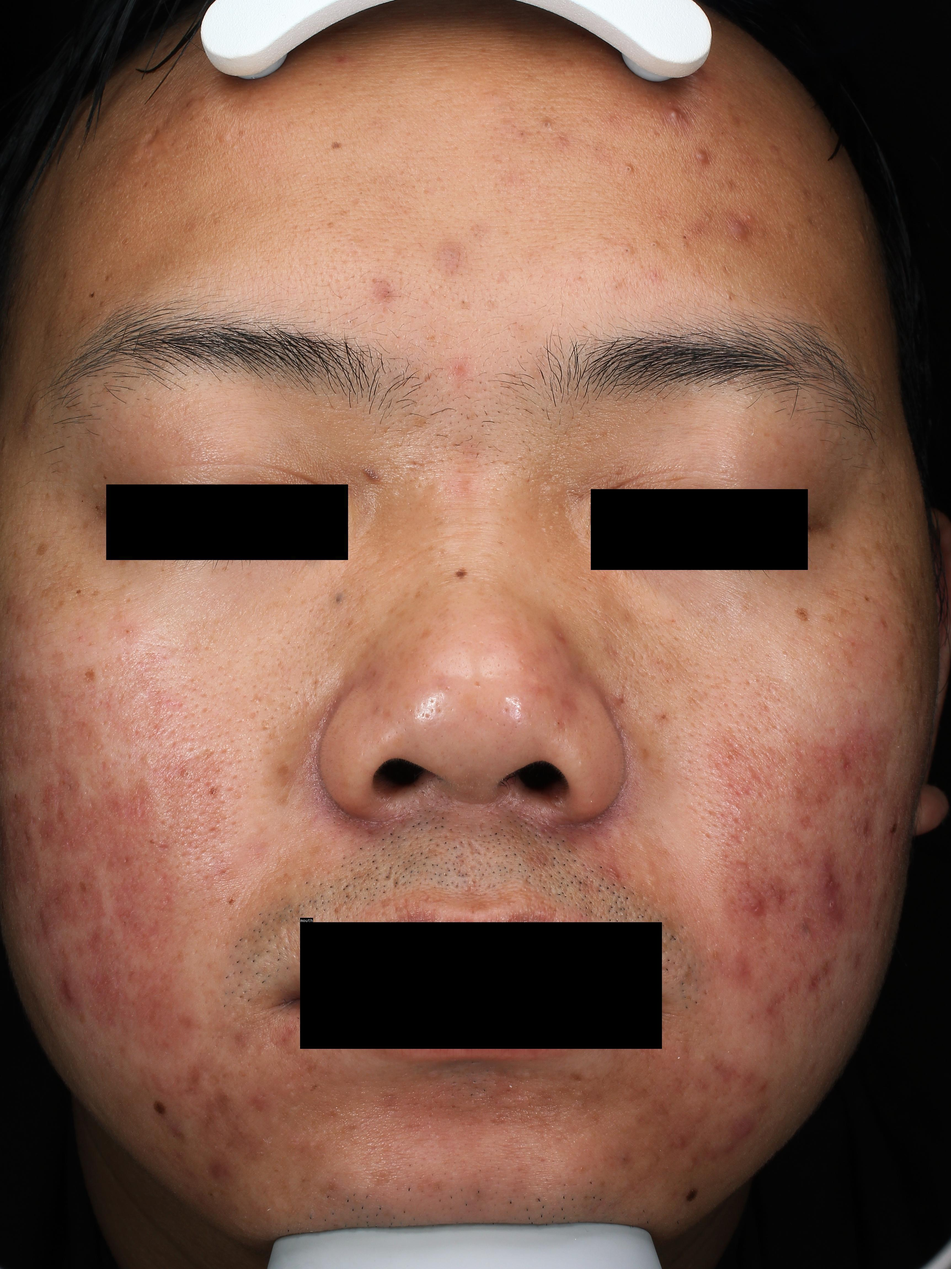atrophic_scar: (49, 759, 78, 825), (729, 817, 750, 847), (140, 127, 164, 150), (622, 1088, 653, 1103), (465, 834, 483, 857), (82, 764, 96, 792), (798, 814, 816, 832), (146, 919, 162, 938), (490, 1112, 508, 1127), (424, 847, 447, 858), (766, 682, 781, 697), (162, 726, 175, 743), (455, 868, 474, 879), (384, 862, 394, 882), (206, 1074, 220, 1088), (496, 269, 508, 285), (569, 1072, 584, 1083), (393, 872, 402, 890), (250, 692, 263, 704), (380, 896, 391, 910), (157, 843, 173, 852), (333, 902, 344, 915), (311, 676, 319, 693), (701, 831, 714, 841), (469, 865, 480, 875), (827, 726, 838, 736), (349, 197, 360, 207), (260, 719, 268, 731), (842, 761, 852, 770), (100, 759, 106, 774), (325, 221, 335, 229), (832, 630, 842, 638), (423, 374, 432, 382), (249, 711, 256, 720), (473, 681, 482, 687), (857, 709, 862, 714)
closed_comedo: (218, 133, 231, 144), (139, 753, 151, 764), (782, 226, 792, 238), (92, 482, 100, 493), (545, 485, 554, 494), (700, 1054, 709, 1063), (746, 212, 753, 221), (254, 699, 260, 705), (231, 143, 237, 149), (119, 656, 124, 662)
hypertrophic_scar: (498, 1095, 518, 1109), (513, 1069, 531, 1078), (426, 1069, 440, 1079)
melasma: (39, 563, 88, 614), (870, 538, 904, 593), (100, 580, 133, 601), (860, 545, 876, 572), (83, 667, 98, 686), (117, 552, 133, 569), (824, 588, 840, 603), (818, 612, 837, 624), (36, 542, 49, 556), (840, 606, 853, 618), (81, 519, 92, 530), (827, 540, 836, 552), (92, 589, 101, 596), (124, 597, 133, 604), (310, 1084, 319, 1091), (864, 595, 870, 601), (547, 557, 551, 562)
nevus: (152, 1100, 169, 1116), (793, 606, 810, 622), (686, 1187, 699, 1202), (454, 566, 467, 579), (888, 822, 899, 835), (329, 141, 344, 150), (88, 290, 96, 299), (75, 589, 81, 594), (103, 474, 107, 480)
nodule: (709, 1114, 749, 1156)
open_comedo: (623, 164, 633, 176), (542, 119, 552, 130), (622, 246, 634, 255), (459, 297, 468, 306), (726, 292, 734, 302), (649, 241, 658, 249), (613, 284, 619, 290), (358, 190, 364, 196), (556, 721, 561, 727), (578, 276, 583, 281), (683, 234, 688, 239), (350, 241, 355, 246), (478, 380, 483, 385), (294, 690, 298, 695), (332, 643, 335, 647)
other: (358, 466, 379, 484), (335, 593, 344, 605)
papule: (740, 889, 769, 919), (768, 880, 789, 902), (729, 220, 746, 242), (820, 897, 838, 915), (62, 980, 76, 1003), (25, 823, 39, 845), (667, 110, 683, 125), (821, 875, 833, 890), (735, 863, 749, 875), (695, 152, 710, 163), (613, 689, 624, 702), (180, 769, 191, 778), (454, 364, 462, 373), (705, 214, 712, 222)
